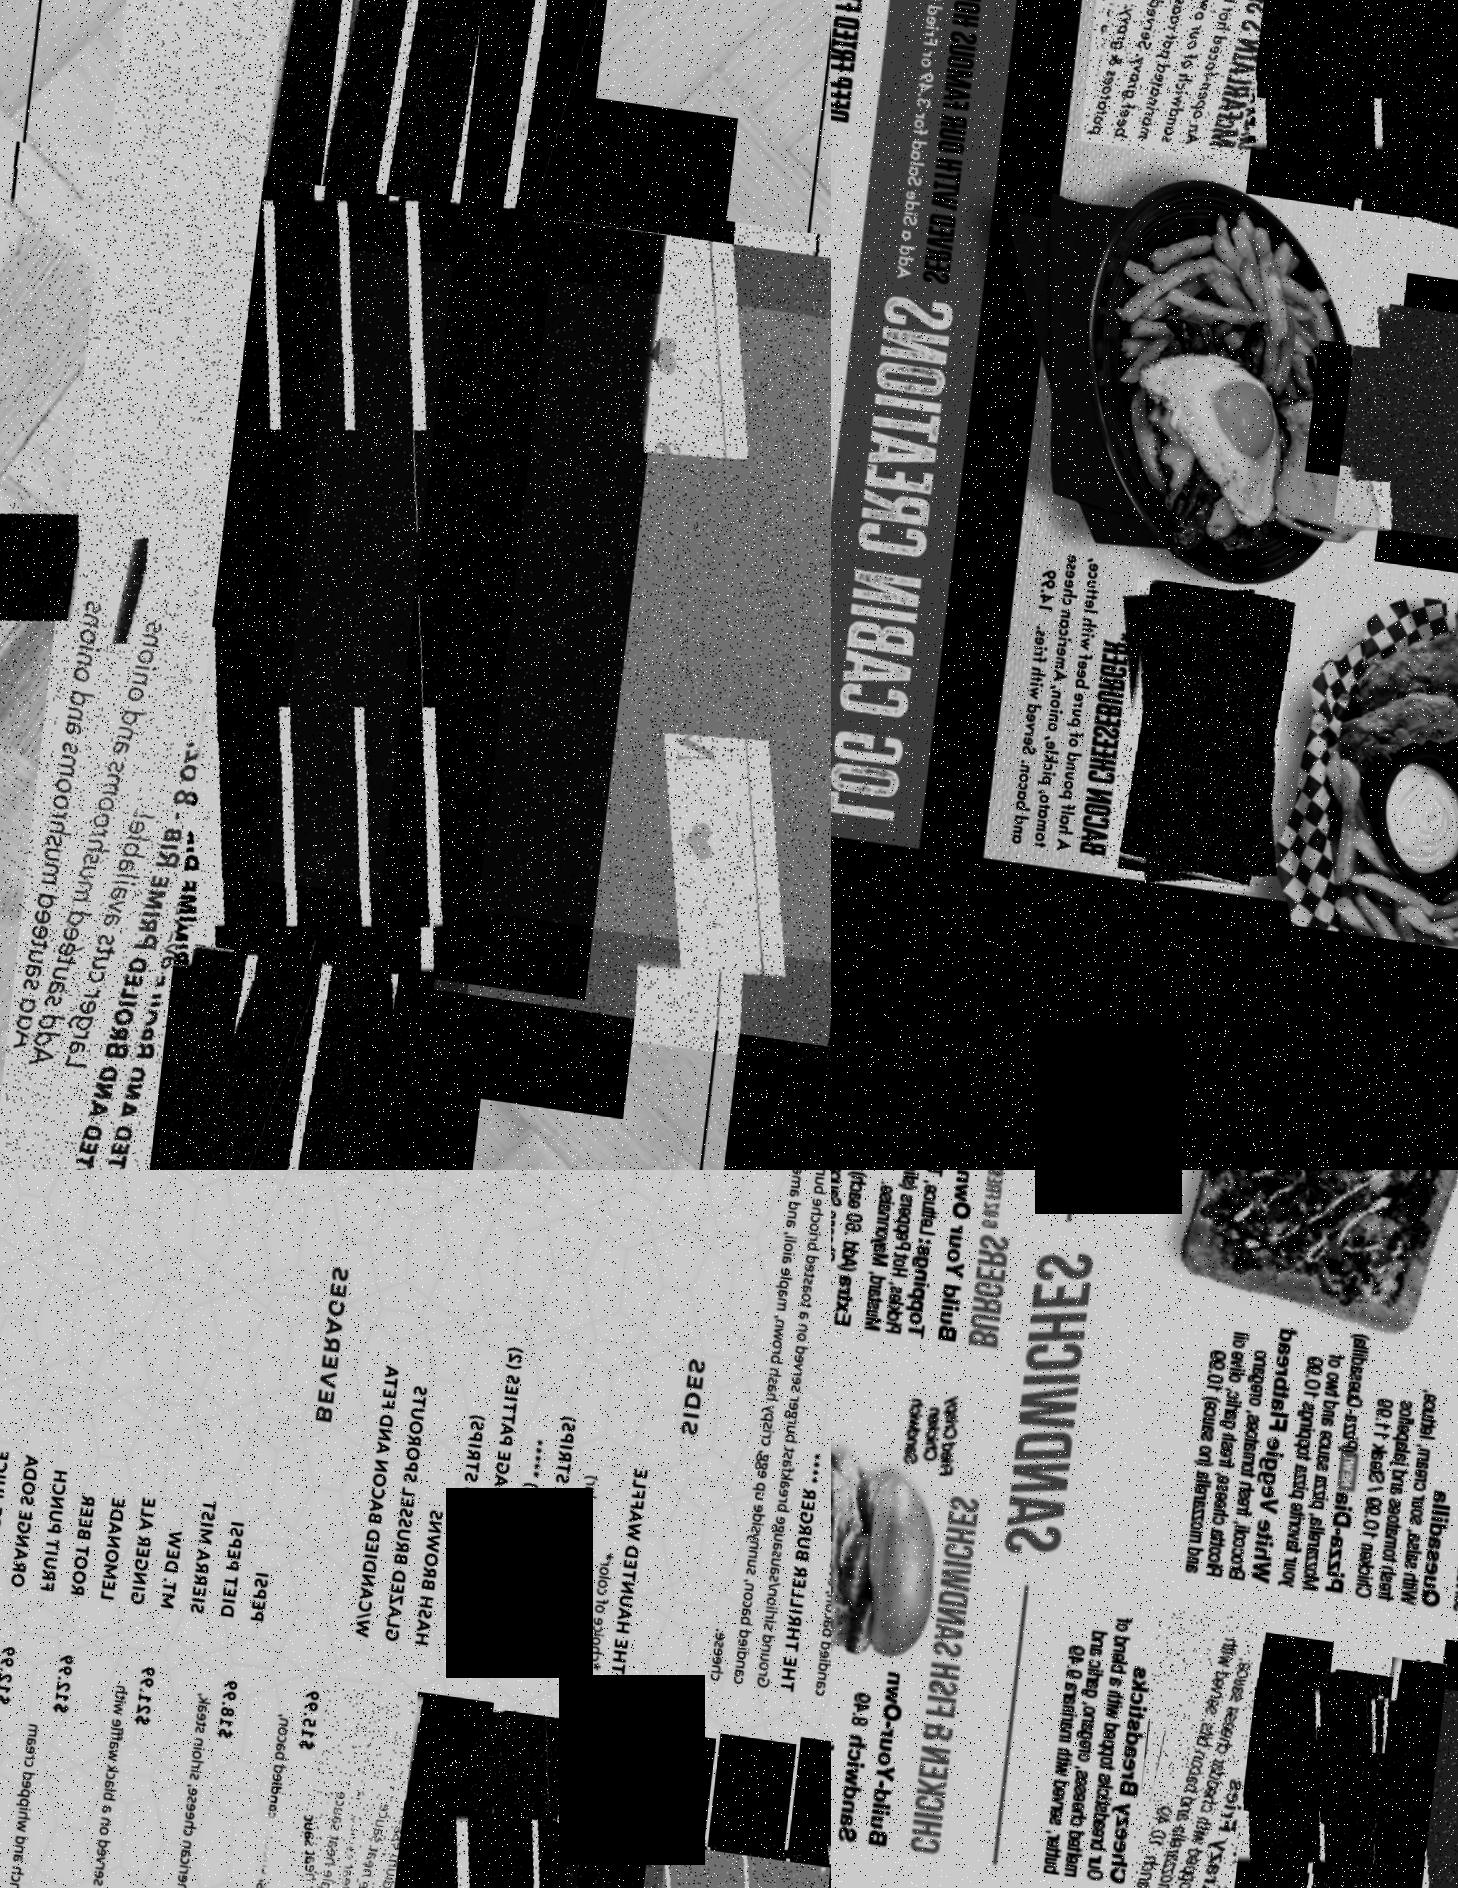Menu-Items: (60, 149, 832, 1031), (0, 118, 678, 988), (263, 233, 832, 952), (159, 0, 495, 1170), (237, 0, 557, 1170), (0, 0, 300, 1170), (475, 179, 832, 1089), (832, 1320, 1018, 1870), (734, 236, 832, 1080), (568, 1170, 711, 1672), (1118, 565, 1306, 882), (718, 1170, 832, 1684), (1005, 518, 1159, 856), (1170, 1285, 1314, 1599), (250, 1772, 622, 1888), (1193, 1657, 1397, 1867), (538, 1170, 620, 1660), (418, 1170, 502, 1641), (476, 1170, 559, 1649), (832, 1170, 1051, 1351), (1139, 1592, 1273, 1888), (1198, 0, 1447, 158), (508, 1170, 590, 1652), (1043, 1589, 1172, 1888), (447, 1170, 528, 1643), (391, 1170, 472, 1635), (430, 1692, 603, 1888), (279, 1669, 426, 1888), (502, 1697, 669, 1888), (1084, 0, 1282, 153), (46, 1646, 168, 1888), (1342, 283, 1458, 537), (476, 1805, 832, 1888), (124, 1660, 253, 1888), (207, 1664, 334, 1888), (1358, 1334, 1458, 1615), (1290, 1323, 1386, 1599), (1363, 1638, 1458, 1888), (1306, 1652, 1404, 1888), (1354, 0, 1458, 219), (0, 1640, 87, 1888), (1368, 1663, 1458, 1888), (360, 1328, 409, 1638), (832, 135, 870, 485)
